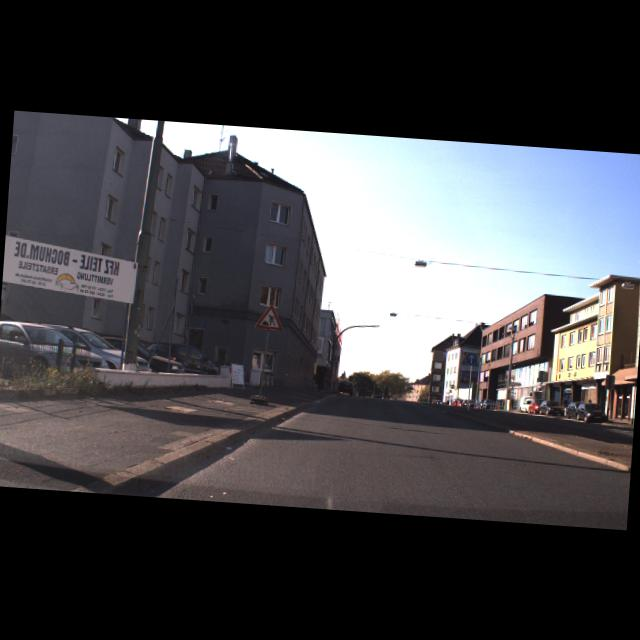danger: (253, 302, 284, 331)
mandatory: (464, 352, 478, 366)
